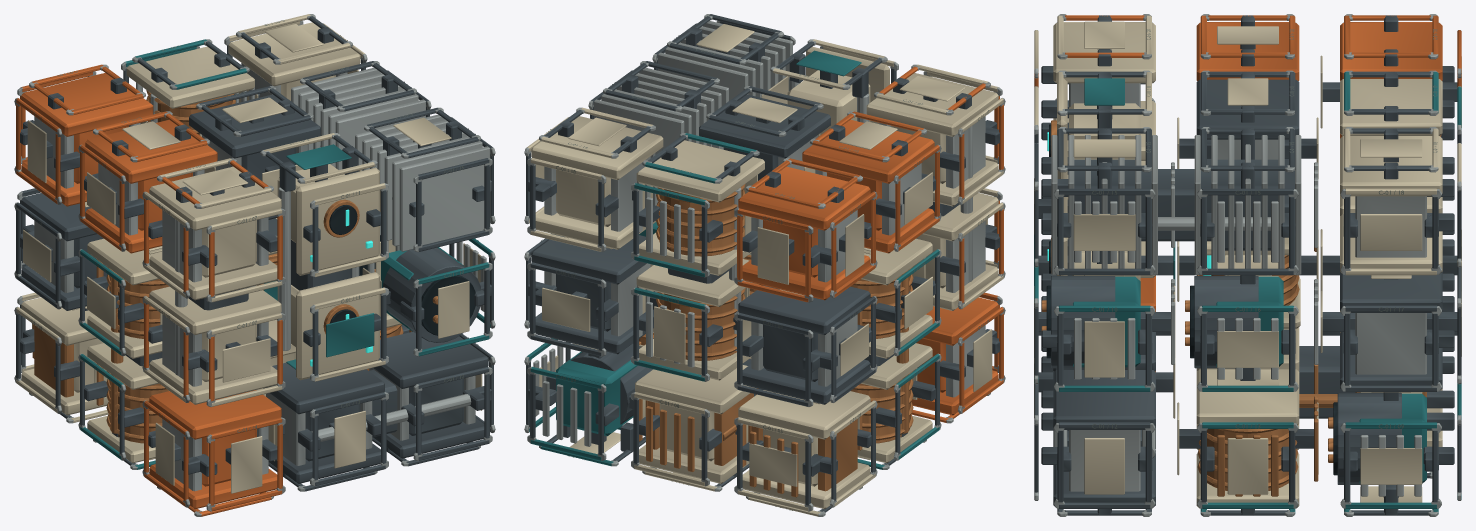
File: cassette001.glb
3 views of the same model, side by side, from view 1: azimuth 30°, elevation 25°; view 2: azimuth 150°, elevation 25°; view 3: azimuth 270°, elevation 25° (orthographic). The views are drawn at different scales.
Parts seen in each view (by area): view 1: top-guide__heat_exchanger_fin, front-panel__instrument_face.001, front-panel__instrument_face, rear-left-latch__mounting_flange.001, service-key__coil_mount.003, front-rail__mounting_flange.003, rear-release__mounting_flange.001, upper-cap__mounting_flange.001, left-foot__mounting_flange.001, left-top__mounting_flange.001, front-left__mounting_flange.003, front-right__socket_housing (+74 smaller); view 2: rear-left-latch__mounting_flange.001, service-key__coil_mount.003, rear-release__mounting_flange.001, upper-cap__mounting_flange.001, rear-left-spine__mounting_flange.001, rear-bottom-left__mounting_flange.001, left-top__mounting_flange.001, front-left__mounting_flange.003, rear-crossbar__mounting_flange.001, lower-bus__mounting_flange.001, rear-bottom-right__structural_housing, service-key__coil_mount.001 (+70 smaller); view 3: rear-crossbar__side_stiffener.001, front-rail__mounting_flange.003, service-key__coil_mount.003, rear-left-latch__mounting_flange.001, right-bottom__coil_mount.001, upper-cap__mounting_flange.001, rear-release__mounting_flange.001, front-left__mounting_flange.003, rear-crossbar__mounting_flange.001, left-top__mounting_flange.001, rear-bottom-right__socket_housing, right-side__socket_housing (+93 smaller).
Boxes of the visible parts, box(x1,y1,x2,y2) form: top-guide__heat_exchanger_fin: box(399, 146, 490, 251); front-panel__instrument_face.001: box(296, 167, 379, 275); front-panel__instrument_face: box(296, 272, 379, 380); rear-left-latch__mounting_flange.001: box(21, 73, 153, 136); service-key__coil_mount.003: box(126, 46, 254, 108); front-rail__mounting_flange.003: box(373, 331, 488, 388); rear-release__mounting_flange.001: box(228, 22, 360, 86); upper-cap__mounting_flange.001: box(189, 94, 320, 158); left-foot__mounting_flange.001: box(149, 390, 281, 439); left-top__mounting_flange.001: box(85, 119, 217, 183); front-left__mounting_flange.003: box(149, 166, 281, 230); front-right__socket_housing: box(383, 247, 481, 342); rear-left-latch__mounting_flange.001: box(738, 166, 870, 230); service-key__coil_mount.003: box(636, 140, 764, 202); rear-release__mounting_flange.001: box(531, 116, 663, 179); upper-cap__mounting_flange.001: box(699, 94, 830, 158); rear-left-spine__mounting_flange.001: box(738, 285, 870, 334); rear-bottom-left__mounting_flange.001: box(738, 390, 870, 439); left-top__mounting_flange.001: box(802, 119, 934, 183); front-left__mounting_flange.003: box(866, 73, 998, 136); rear-crossbar__mounting_flange.001: box(531, 235, 646, 284); lower-bus__mounting_flange.001: box(635, 365, 756, 414); rear-bottom-right__structural_housing: box(556, 351, 637, 436); service-key__coil_mount.001: box(636, 259, 752, 306); rear-crossbar__side_stiffener.001: box(1355, 313, 1426, 374); front-rail__mounting_flange.003: box(1053, 370, 1155, 429); service-key__coil_mount.003: box(1340, 79, 1442, 135); rear-left-latch__mounting_flange.001: box(1340, 23, 1442, 80); right-bottom__coil_mount.001: box(1196, 369, 1299, 424); upper-cap__mounting_flange.001: box(1196, 79, 1299, 139); rear-release__mounting_flange.001: box(1340, 136, 1442, 196); front-left__mounting_flange.003: box(1053, 23, 1155, 83); rear-crossbar__mounting_flange.001: box(1340, 272, 1442, 312); left-top__mounting_flange.001: box(1196, 23, 1299, 80); rear-bottom-right__socket_housing: box(1337, 392, 1401, 484); right-side__socket_housing: box(1194, 276, 1258, 368).
Size of the model in its own units: 1.67 by 1.61 by 1.79.
